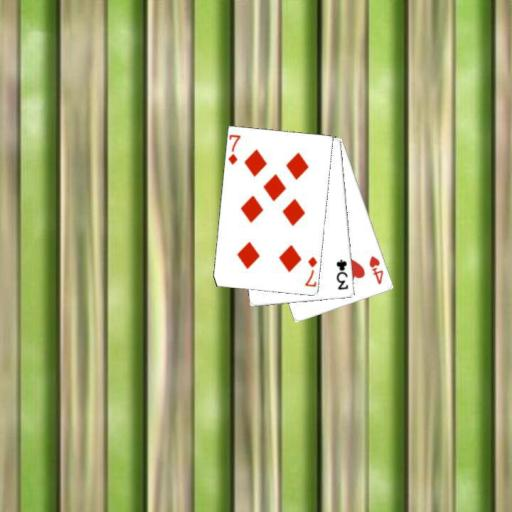3C: (333, 257, 350, 292)
4H: (367, 253, 386, 286)
7D: (302, 253, 319, 288), (226, 132, 243, 167)
